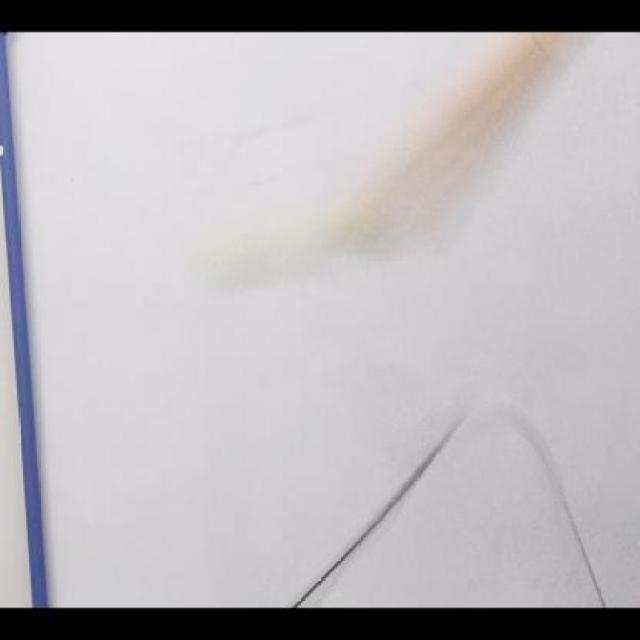baseball: (216, 199, 384, 290)
